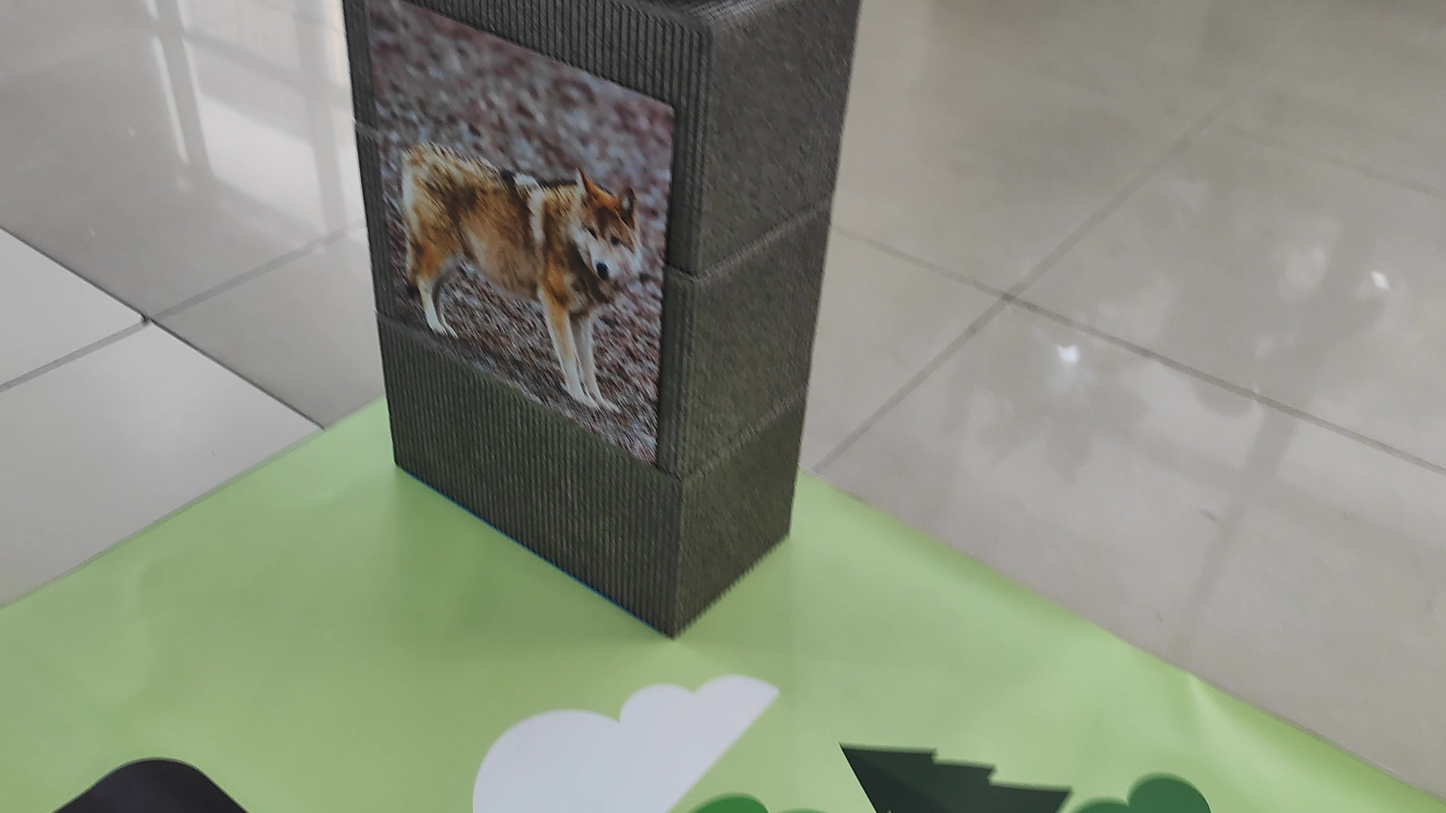wolf: (368, 54, 661, 431)
